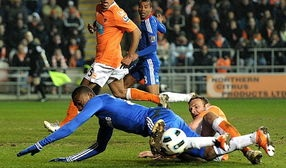falling: (166, 91, 272, 164)
